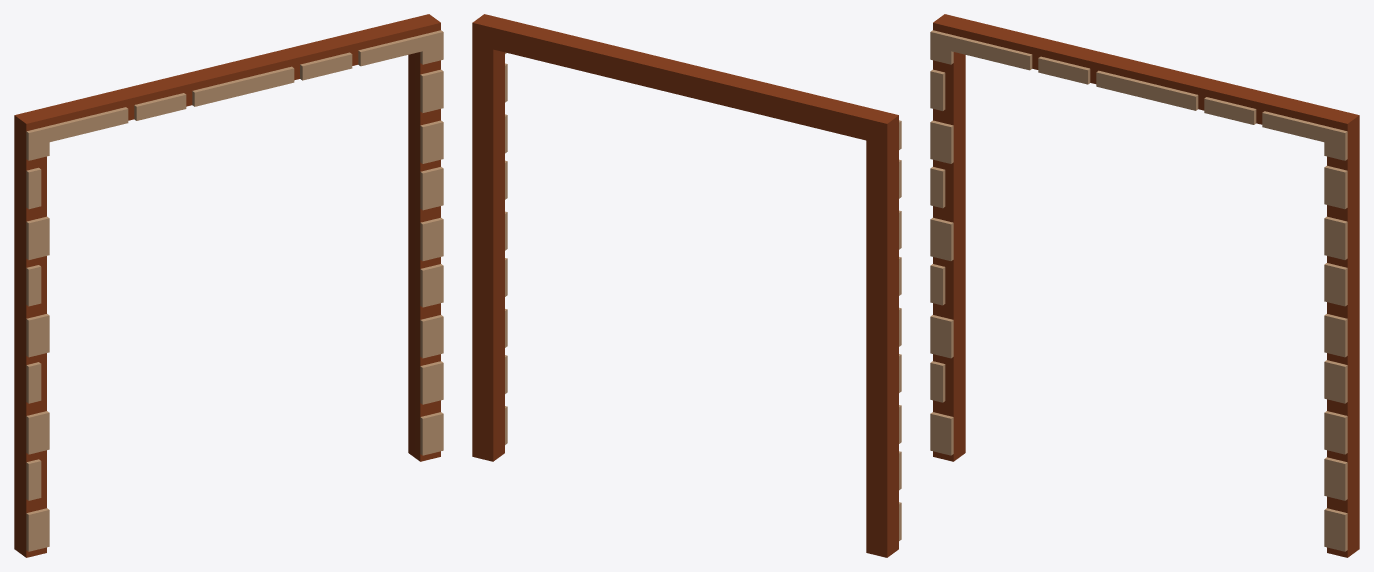
Rendered from BrickV1GarageFrame.fbx.
3 views of the same model, side by side, from view 1: azimuth 30°, elevation 25°; view 2: azimuth 150°, elevation 25°; view 3: azimuth 330°, elevation 25° (orthographic).
Visible parts, largest first — view 1: BrickV1GarageFrame; view 2: BrickV1GarageFrame; view 3: BrickV1GarageFrame.
Part boxes in pixels (x1,y1,x2,y2): BrickV1GarageFrame: (14,14,443,557); BrickV1GarageFrame: (472,14,901,557); BrickV1GarageFrame: (930,14,1359,557).
Bounding box in the file's own units: 200 × 200 × 12.
